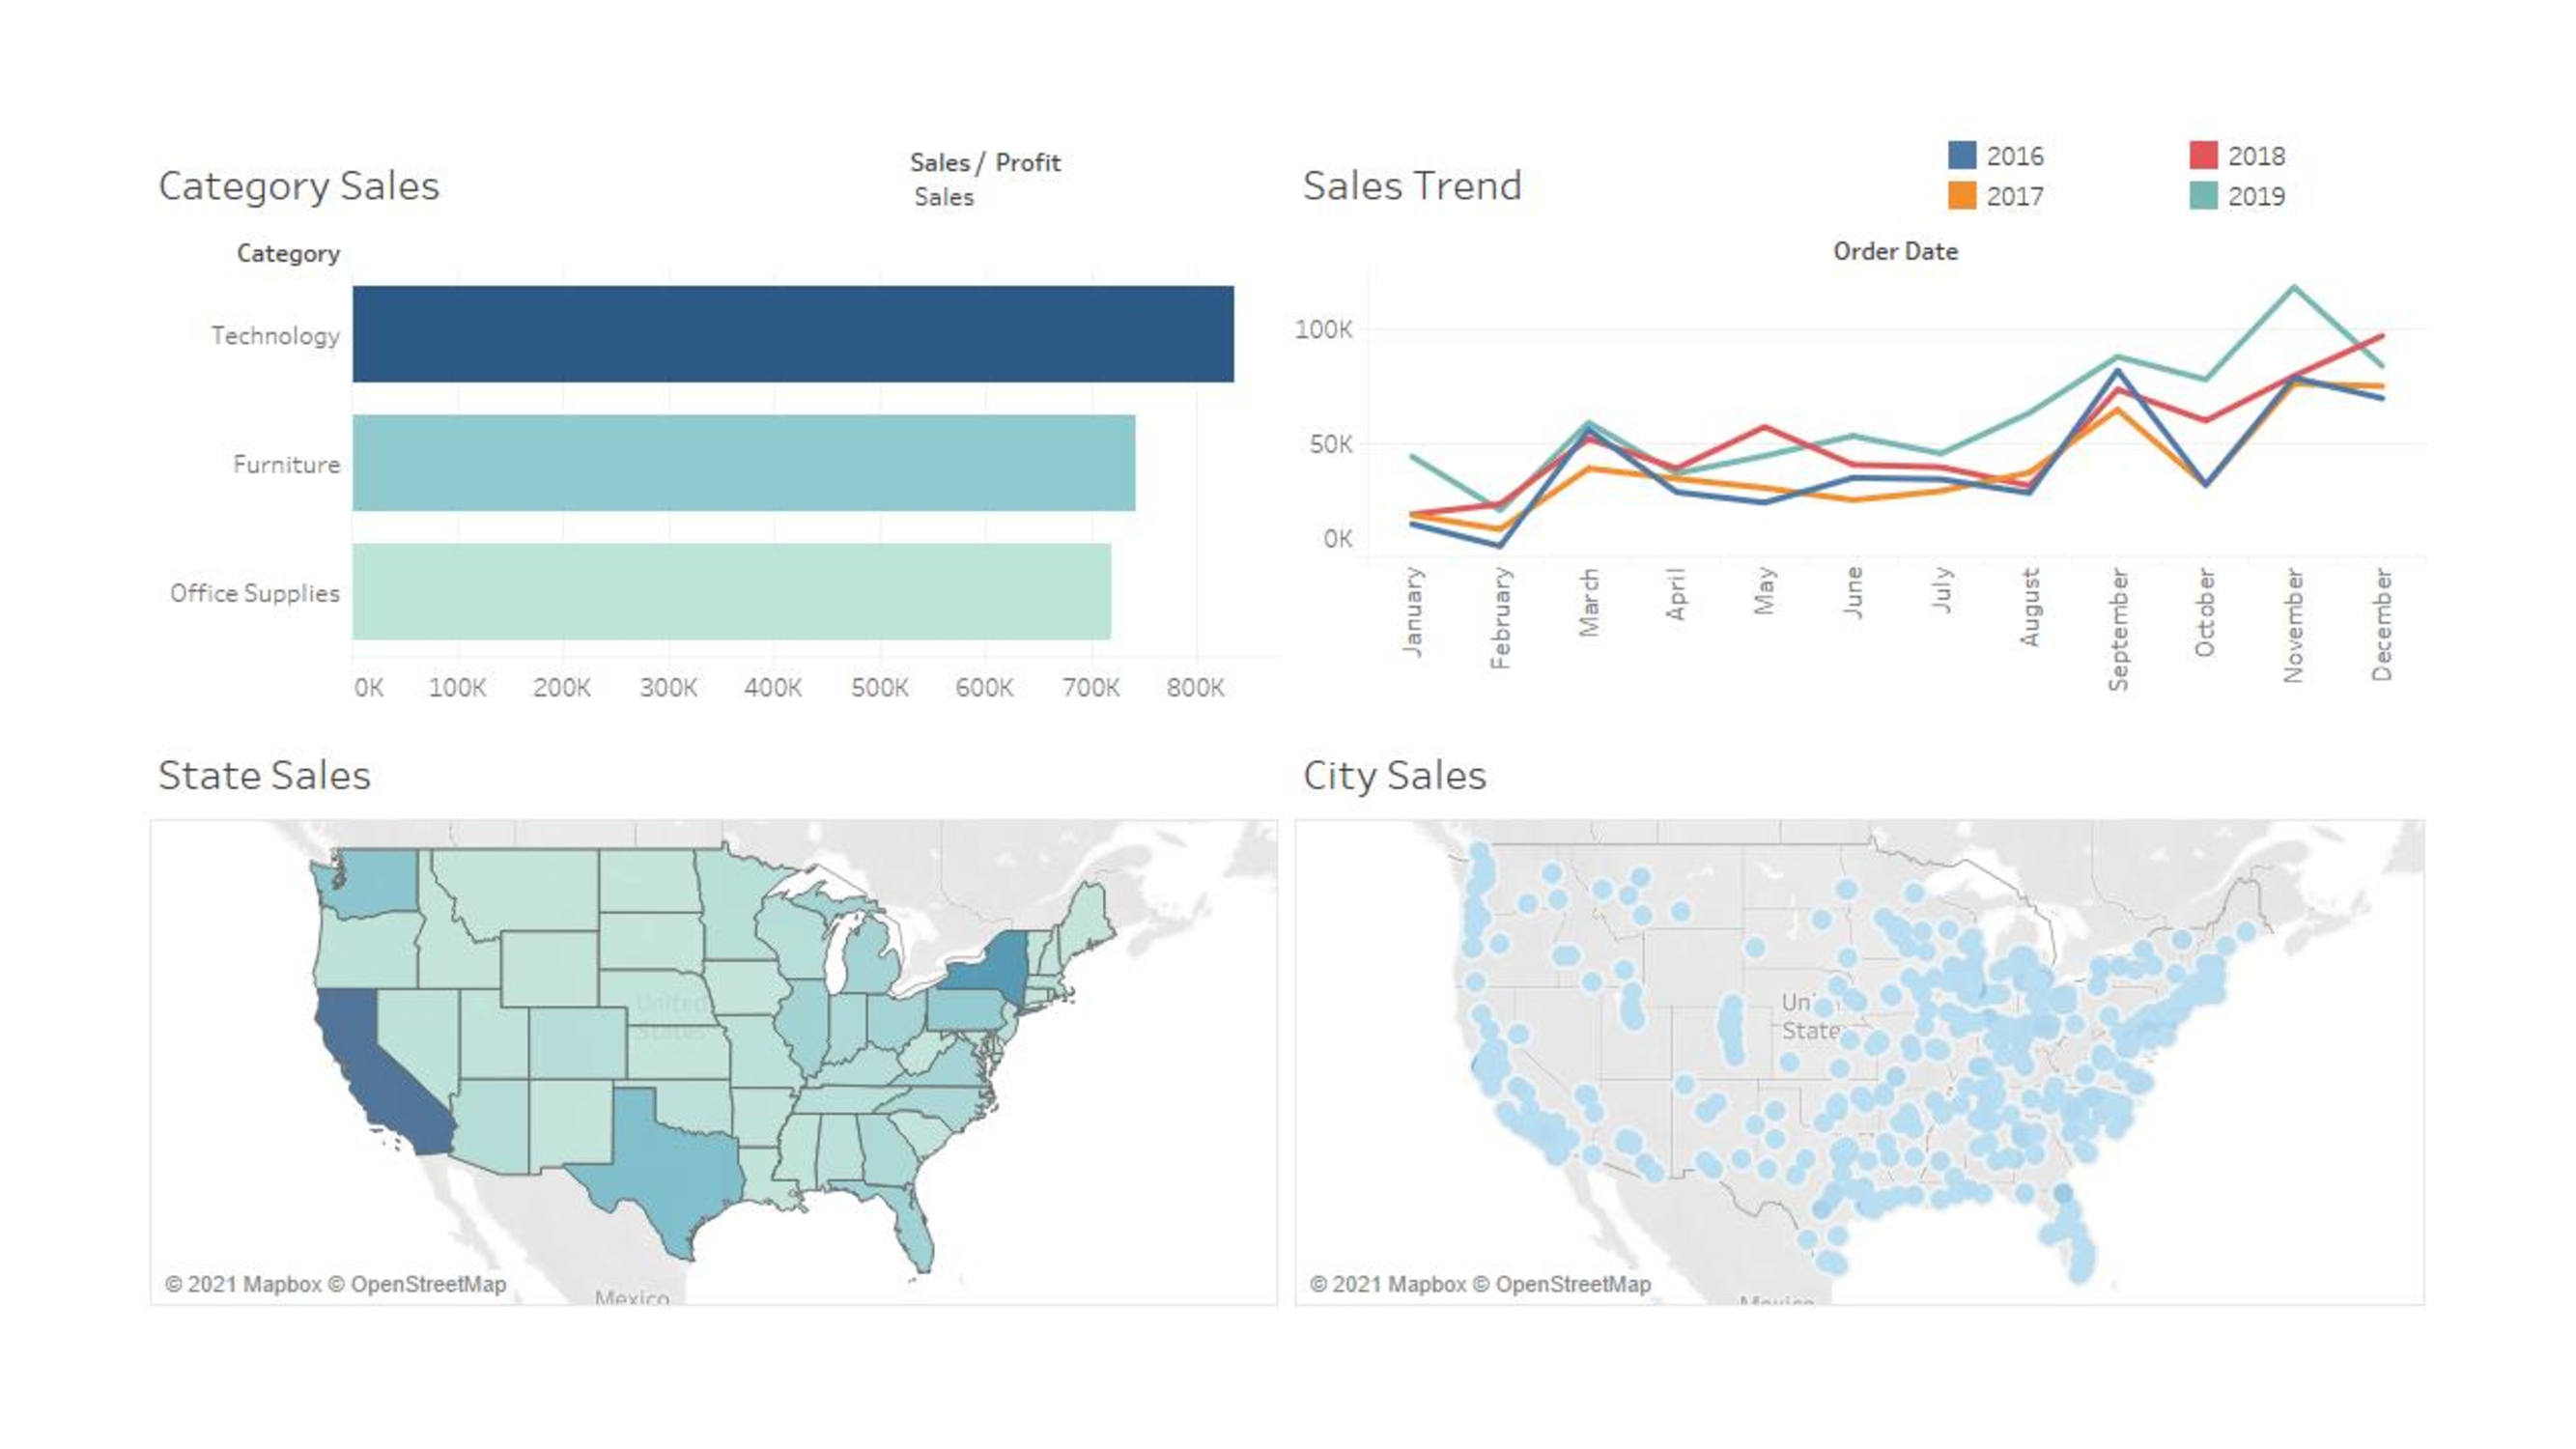

Layout of this report page (visuals, bound fields, positions):
{"tool":"tableau","page":{"name":"Dashboard 1","canvas":[1000,1000],"units":"permille","ordinal":2},"visuals":[{"type":"worksheet","title":"Category Sales","mark":"Automatic","rows":["Category"],"cols":["Calculation_367324911628406786"],"box":[6.9,13.3,493.1,486.7]},{"type":"worksheet","title":"Sales Trend","mark":"Line","rows":["Calculation_367324911628406786"],"cols":["Order Date"],"box":[500,13.3,493.1,486.7]},{"type":"legend","title":"Sales Trend","param":"[federated.1tfnya512v4sic154r6q116n23ai].[yr:Order Date:ok]","box":[781.8,13.3,211.3,78.1]},{"type":"parameter","param":"[Parameters].[Parameter 1]","box":[337.7,19.9,138.5,73.1]},{"type":"worksheet","title":"State Sales","mark":"Automatic","box":[6.9,500,493.1,486.7]},{"type":"worksheet","title":"City Sales","mark":"Automatic","box":[500,500,493.1,486.7]}]}

Visuals, with their boxes on the dashboard's canvas, which has no fixed pixel size, in thousandths of its width and height (x1, y1, x2, y2). These are canvas units, not pixel positions in the 2576x1449 screenshot, which may show the page scaled, cropped or inside an application window:
"Category Sales" worksheet: <box>7,13,500,500</box>
"Sales Trend" worksheet (Line marks): <box>500,13,993,500</box>
"Sales Trend" legend: <box>782,13,993,91</box>
parameter: <box>338,20,476,93</box>
"State Sales" worksheet: <box>7,500,500,987</box>
"City Sales" worksheet: <box>500,500,993,987</box>
